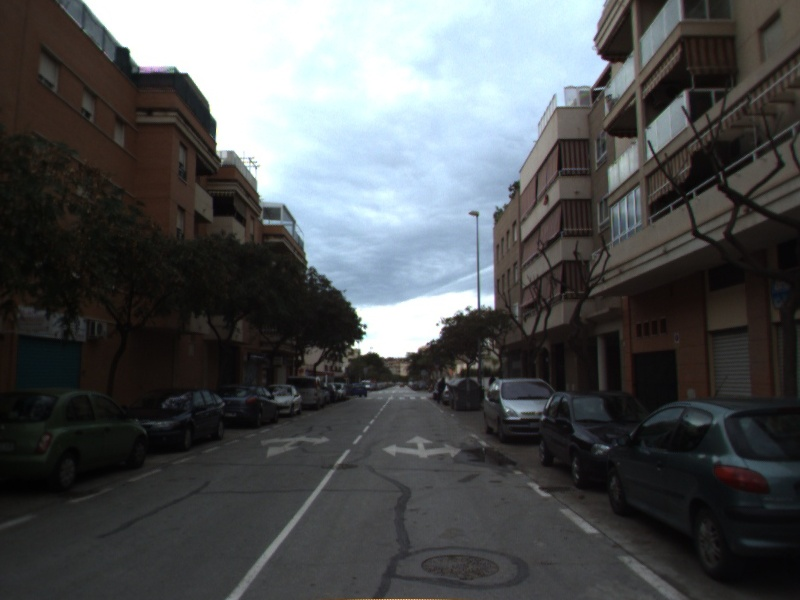STRAIGHT_LEFT_RIGHT: (380, 434, 464, 460)
